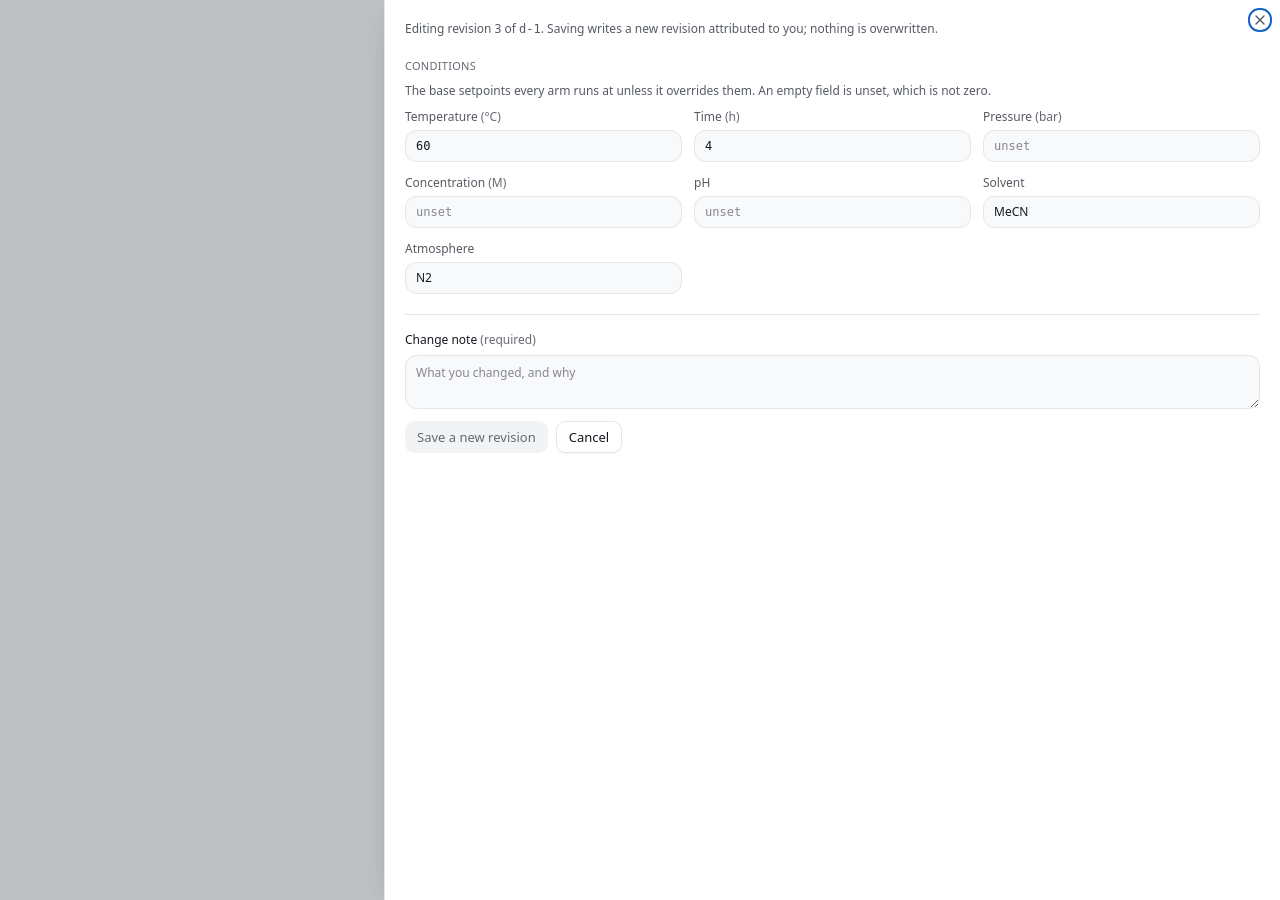
it: the one screen where a human writes › refuses to close on an edited form, and says what would be lost
Replace the text in the field labelled "Temperature (°C)" with "75" at [544, 146], box [405, 130, 682, 162]
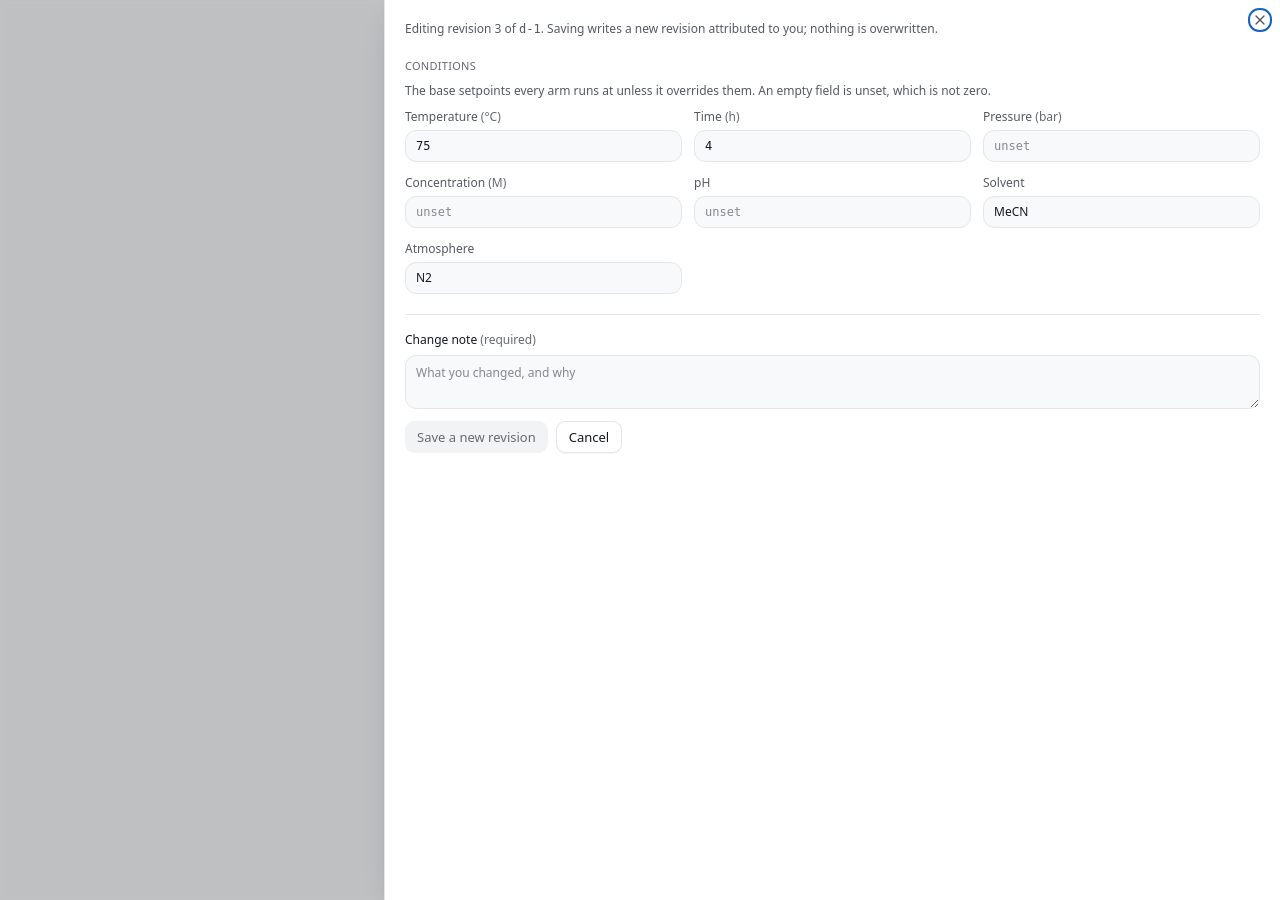
Click the button "Cancel" at [589, 437], box [556, 421, 622, 453]
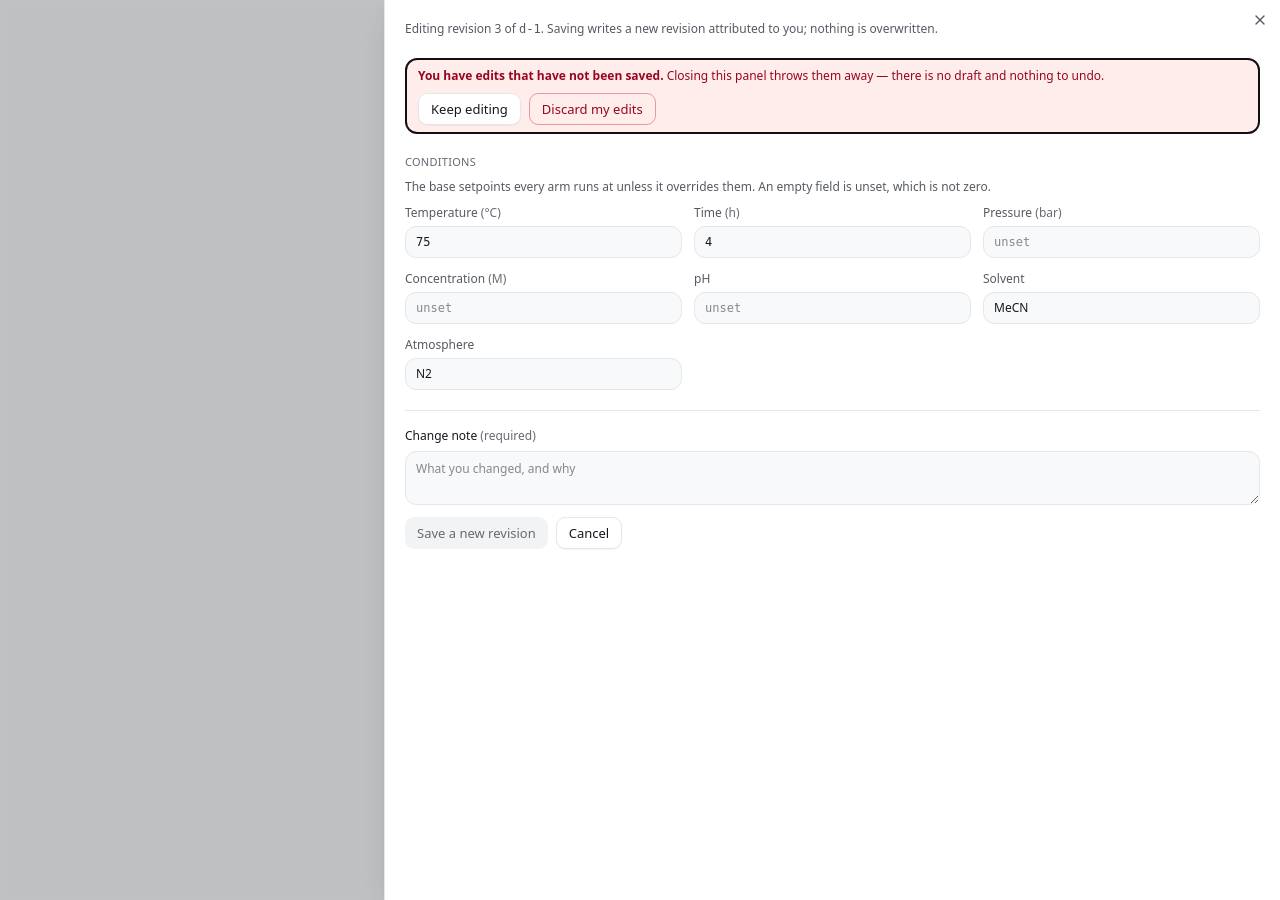
Expected: the text "You have edits that have not been saved." is shown, [418, 67, 664, 84]
